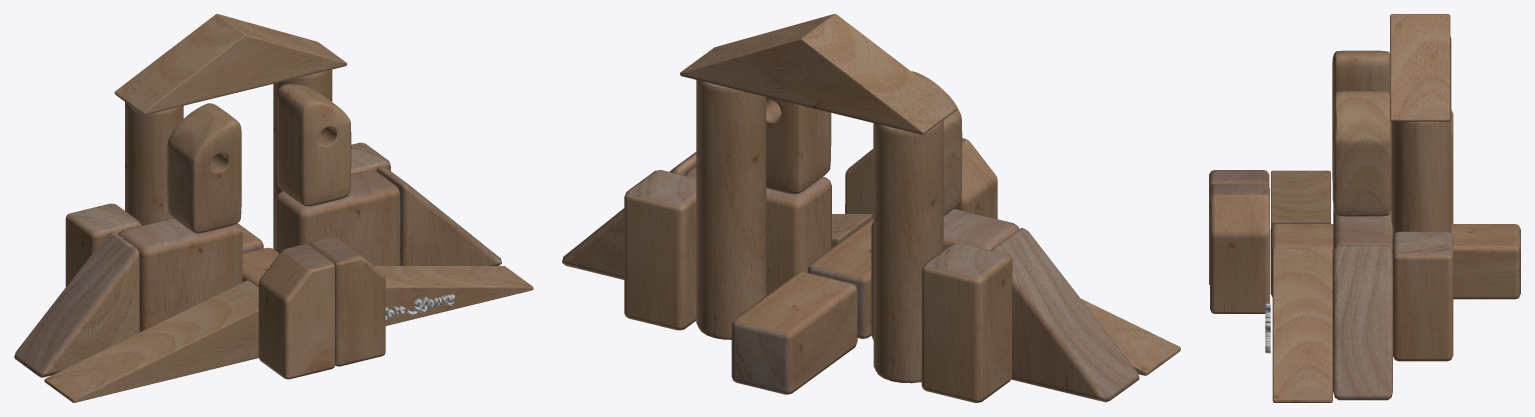
The model's file is wk6b_woodBlock_b_koury_kate.fbx.
3 views of the same model, side by side, from view 1: azimuth 30°, elevation 25°; view 2: azimuth 150°, elevation 25°; view 3: azimuth 270°, elevation 25° (orthographic). The views are drawn at different scales.
Visible parts, largest first — view 1: unitblock06_ramp, unitblock07_roof, unitblock03_triangle1, unitblock01_bevel1, unitblock05_square, unitblock04_curvetop1, unitblock04_curvetop, unitblock05_square1, unitblock01_bevel, unitblock06_ramp1, unitblock03_triangle2, unitblock02_cylindar (+5 smaller); view 2: unitblock07_roof, unitblock02_cylindar1, unitblock02_cylindar, unitblock00_base3, unitblock03_triangle1, unitblock00_base2, unitblock00_base, unitblock05_square1, unitblock04_curvetop, unitblock00_base1, unitblock03_triangle2, unitblock06_ramp (+5 smaller); view 3: unitblock06_ramp1, unitblock03_triangle2, unitblock00_base, unitblock01_bevel, unitblock04_curvetop, unitblock02_cylindar1, unitblock07_roof, unitblock00_base2, unitblock06_ramp, unitblock04_curvetop1, unitblock05_square1, unitblock00_base1 (+3 smaller).
Boxes of the visible parts, bbox=[...] form: unitblock06_ramp: bbox=[44, 280, 258, 402]; unitblock07_roof: bbox=[114, 14, 346, 115]; unitblock03_triangle1: bbox=[14, 231, 139, 377]; unitblock01_bevel1: bbox=[258, 244, 334, 379]; unitblock05_square: bbox=[119, 218, 242, 332]; unitblock04_curvetop1: bbox=[167, 103, 241, 233]; unitblock04_curvetop: bbox=[277, 84, 351, 206]; unitblock05_square1: bbox=[275, 170, 400, 265]; unitblock01_bevel: bbox=[309, 237, 385, 366]; unitblock06_ramp1: bbox=[374, 266, 533, 325]; unitblock03_triangle2: bbox=[376, 166, 501, 265]; unitblock02_cylindar: bbox=[125, 102, 183, 225]; unitblock07_roof: bbox=[680, 14, 957, 134]; unitblock02_cylindar1: bbox=[696, 80, 766, 339]; unitblock02_cylindar: bbox=[873, 120, 943, 383]; unitblock00_base3: bbox=[921, 242, 1012, 402]; unitblock03_triangle1: bbox=[991, 227, 1139, 402]; unitblock00_base2: bbox=[731, 272, 857, 394]; unitblock00_base: bbox=[624, 170, 696, 330]; unitblock05_square1: bbox=[685, 164, 831, 295]; unitblock04_curvetop: bbox=[766, 97, 831, 194]; unitblock00_base1: bbox=[808, 217, 873, 338]; unitblock03_triangle2: bbox=[562, 152, 696, 279]; unitblock06_ramp: bbox=[1081, 299, 1180, 375]; unitblock06_ramp1: bbox=[1272, 248, 1332, 402]; unitblock03_triangle2: bbox=[1333, 245, 1392, 400]; unitblock00_base: bbox=[1392, 231, 1453, 361]; unitblock01_bevel: bbox=[1210, 183, 1269, 313]; unitblock04_curvetop: bbox=[1332, 91, 1391, 216]; unitblock02_cylindar1: bbox=[1391, 110, 1451, 235]; unitblock07_roof: bbox=[1390, 14, 1450, 121]; unitblock00_base2: bbox=[1451, 224, 1520, 299]; unitblock06_ramp: bbox=[1271, 170, 1330, 228]; unitblock04_curvetop1: bbox=[1332, 50, 1389, 121]; unitblock05_square1: bbox=[1333, 206, 1393, 253]; unitblock00_base1: bbox=[1270, 224, 1333, 297].
Bounding box in the file's own units: 31.62 × 17.69 × 18.15.
